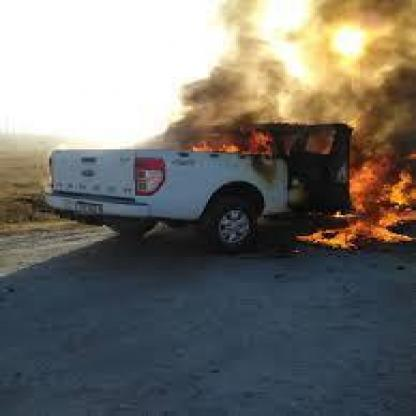fire: (344, 146, 412, 256), (192, 115, 280, 156)
smoke: (214, 6, 412, 117)
